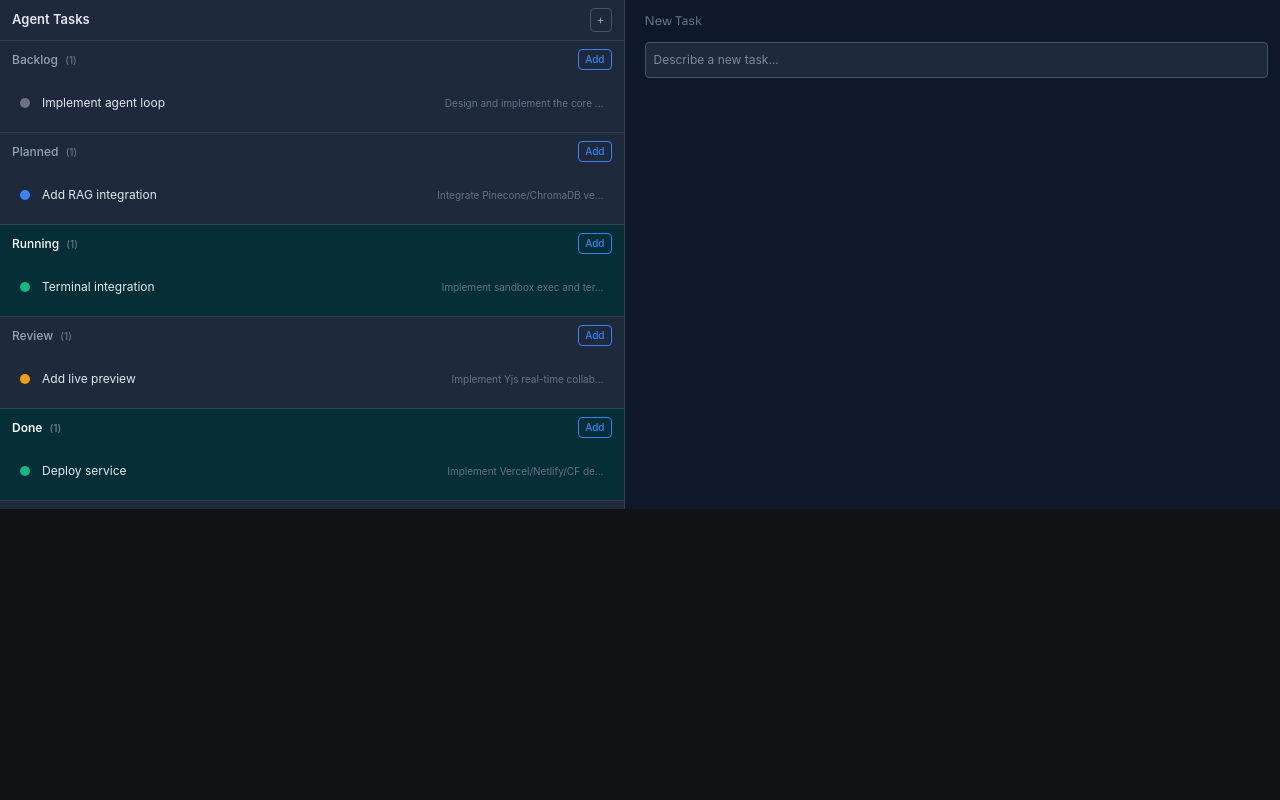
Test: KanbanBoard › adds a task from the New Task input and notifies parent
Type "Write test suite" into the field with placeholder "Describe a new task...".
click(956, 60); type("Write test suite")  # box [644,42,1268,78]
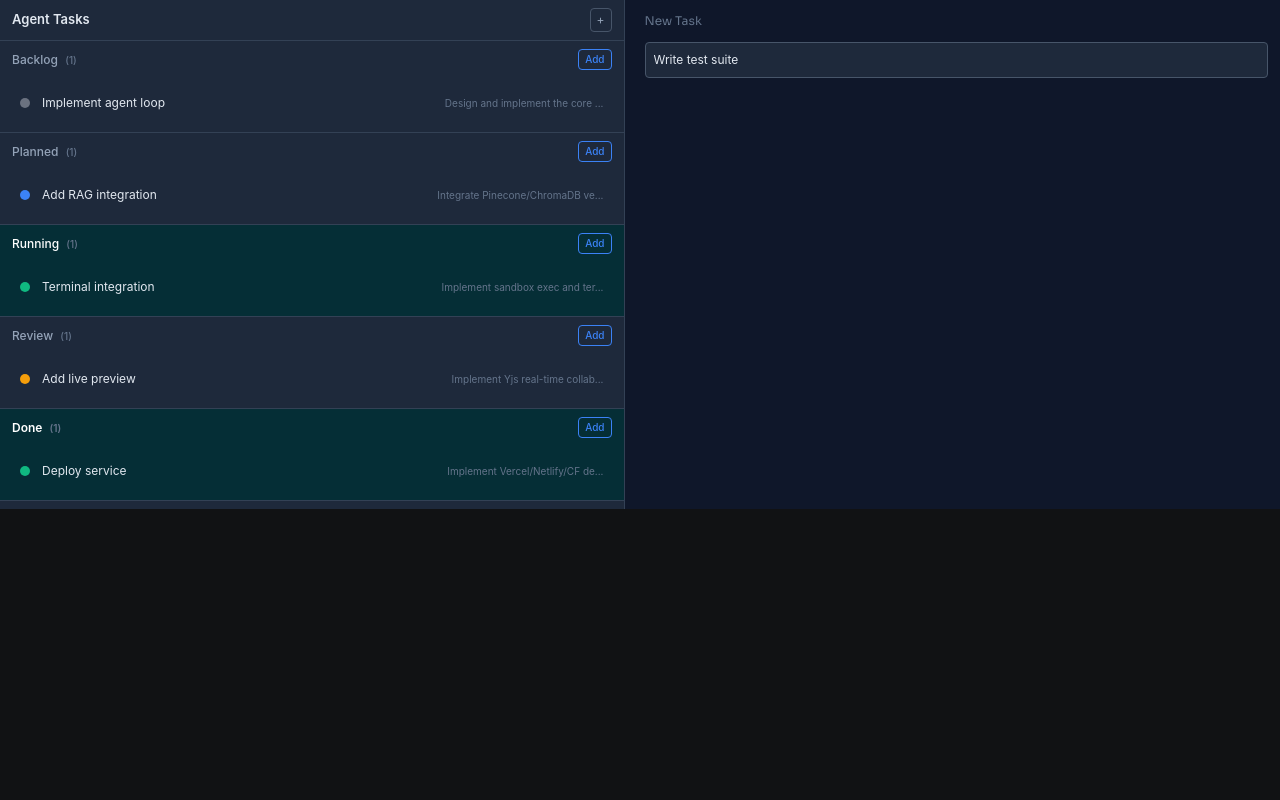
Press Enter in the field with placeholder "Describe a new task...", box [644,42,1268,78]
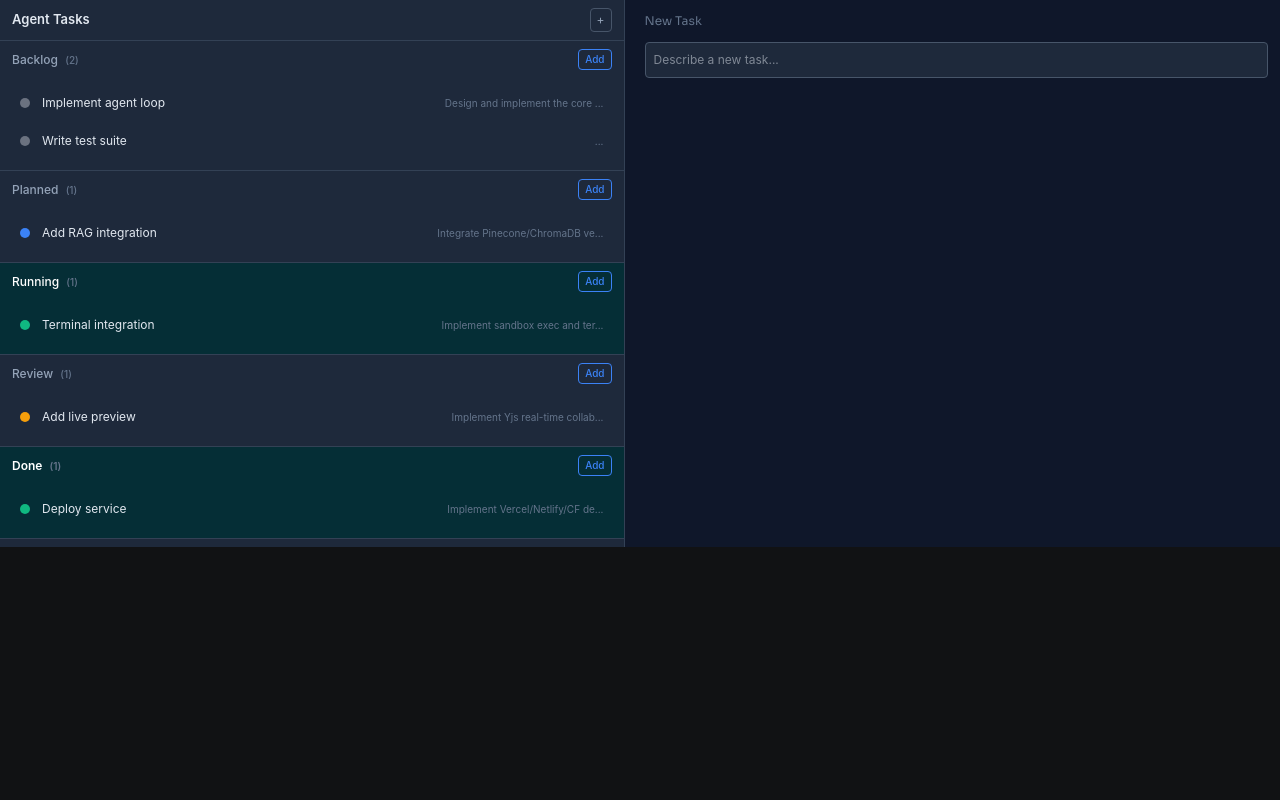
expect the text "Write test suite" is shown: met, box [42,133,127,148]
